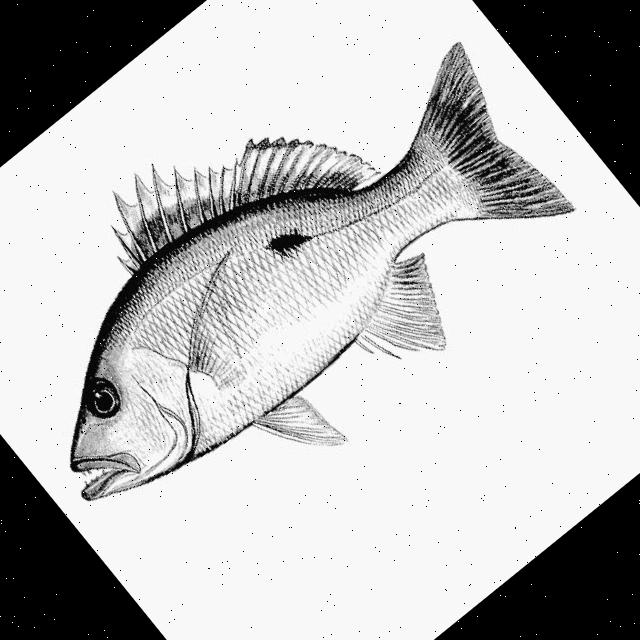ikan: (0, 0, 610, 593)
